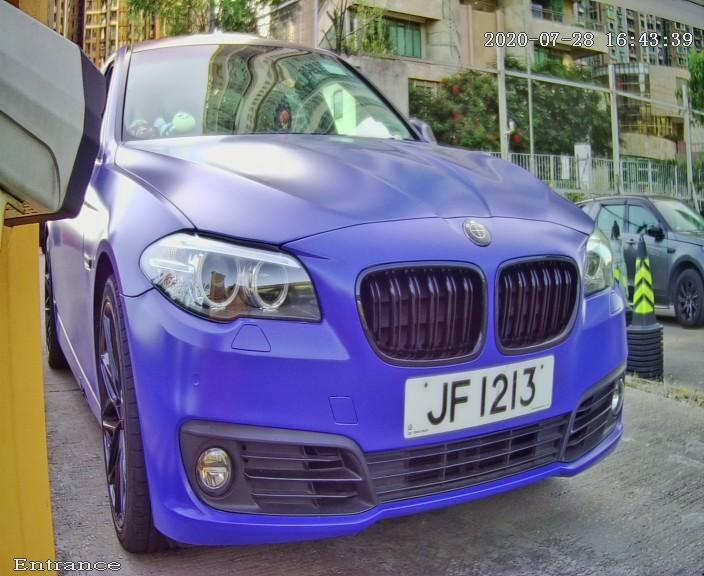privatecar: (16, 13, 704, 564)
